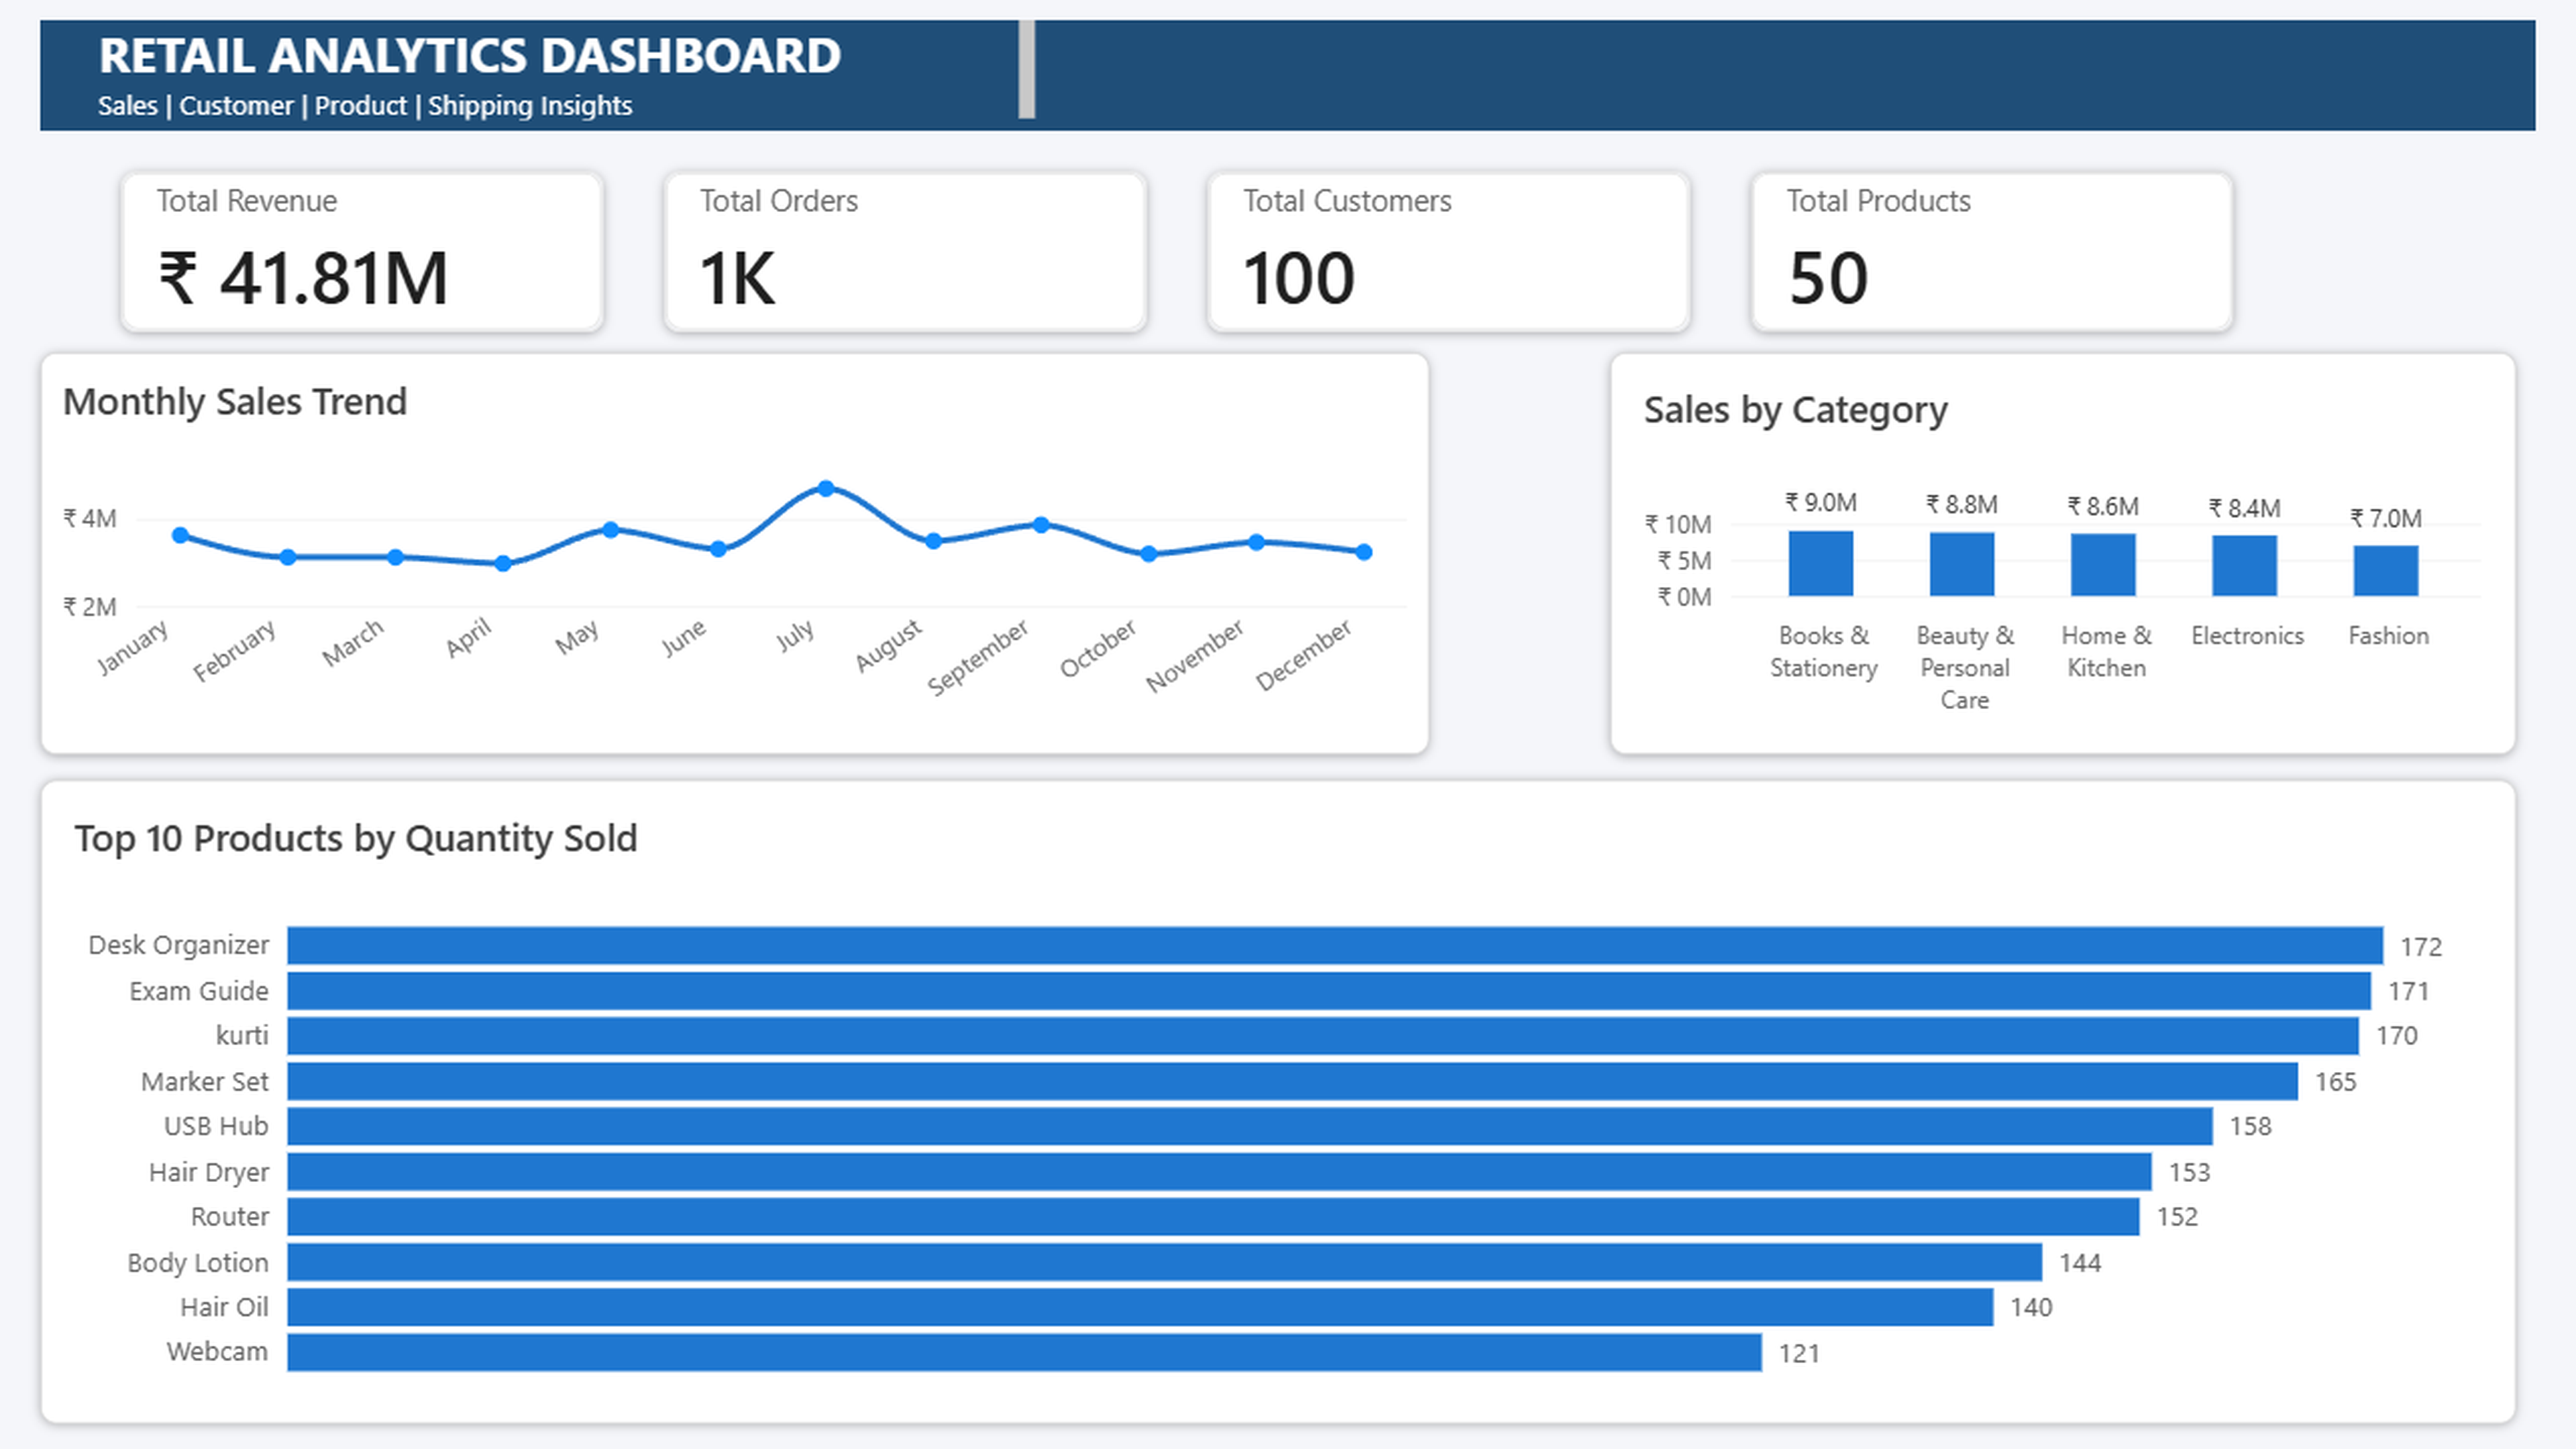

Layout of this report page (visuals, bound fields, positions):
{"tool":"powerbi","page":{"name":"Executive Overview","canvas":[1280,720],"ordinal":0},"visuals":[{"type":"cardVisual","fields":{"Data":["retail_analytics customers.Total Revenue"]},"box":[60,85,240,80],"z":0},{"type":"cardVisual","fields":{"Data":["retail_analytics customers.Total Order"]},"box":[330,85,240,80],"z":1000},{"type":"cardVisual","fields":{"Data":["retail_analytics customers.Total Customers"]},"box":[600,85,240,80],"z":2000},{"type":"cardVisual","fields":{"Data":["retail_analytics customers.Total Products"]},"box":[870,85,240,80],"z":3000},{"type":"lineChart","title":"Monthly Sales Trend","fields":{"Category":["retail_analytics orders.order_date.Variation.Date Hierarchy.Year","retail_analytics orders.order_date.Variation.Date Hierarchy.Quarter","retail_analytics orders.order_date.Variation.Date Hierarchy.Month","retail_analytics orders.order_date.Variation.Date Hierarchy.Day"],"Y":["retail_analytics customers.Total Revenue"]},"box":[20,175,690,200],"z":4000},{"type":"clusteredColumnChart","title":"Sales by Category","fields":{"Category":["retail_analytics products.category"],"Y":["retail_analytics customers.Total Revenue"]},"box":[800,175,450,200],"z":5000},{"type":"clusteredBarChart","title":"Top 10 Products by Quantity Sold","fields":{"Category":["retail_analytics products.product_name"],"Y":["Sum(retail_analytics order_details.quantity)"]},"box":[20,387,1230,320],"z":6000},{"type":"shape","box":[20,10,1240,55],"z":7000},{"type":"textbox","box":[49.3,10.6,465.3,49.3],"z":8000}]}

Visuals, with their boxes in screenshot pixels (x1, y1, x2, y2), scaled from the page's 1280x720 canvas onto the 2576x1449 screenshot:
cardVisual - retail_analytics customers.Total Revenue: (left=121, top=171, right=604, bottom=332)
cardVisual - retail_analytics customers.Total Order: (left=664, top=171, right=1147, bottom=332)
cardVisual - retail_analytics customers.Total Customers: (left=1207, top=171, right=1690, bottom=332)
cardVisual - retail_analytics customers.Total Products: (left=1751, top=171, right=2234, bottom=332)
"Monthly Sales Trend" lineChart: (left=40, top=352, right=1429, bottom=755)
"Sales by Category" clusteredColumnChart: (left=1610, top=352, right=2516, bottom=755)
"Top 10 Products by Quantity Sold" clusteredBarChart: (left=40, top=779, right=2516, bottom=1423)
shape: (left=40, top=20, right=2536, bottom=131)
textbox: (left=99, top=21, right=1036, bottom=121)
